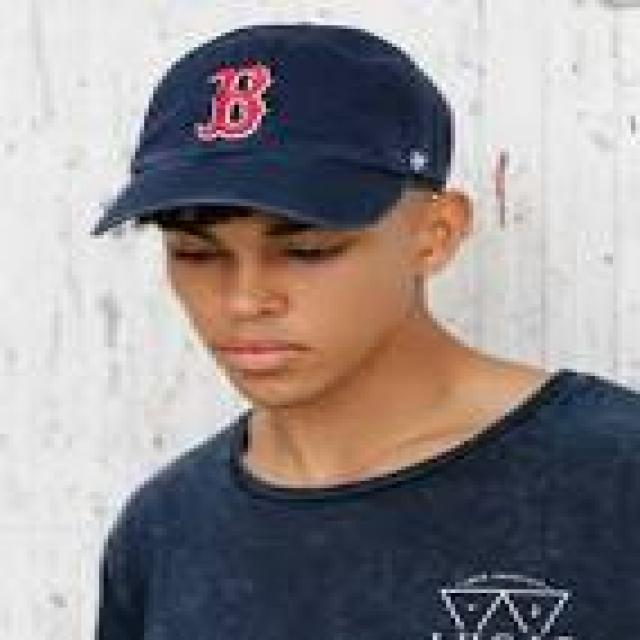3_gorra: (88, 18, 460, 236)
